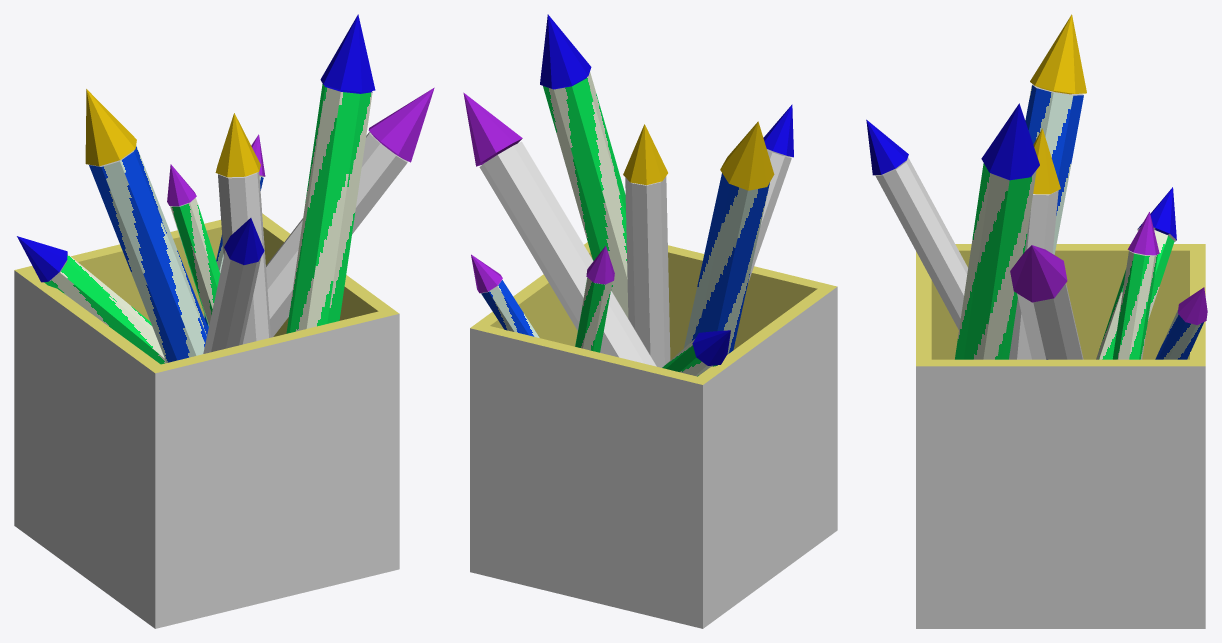
File: fireworks.fbx
The picture shows the model from 3 angles, left to right: view 1: azimuth 30°, elevation 25°; view 2: azimuth 150°, elevation 25°; view 3: azimuth 270°, elevation 25°; orthographic projection. The views are drawn at different scales.
Parts seen in each view (by area): view 1: Cube; view 2: Cube; view 3: Cube.
Boxes of the visible parts, left/top/right/bottom form: Cube: left=14, top=14, right=434, bottom=628; Cube: left=463, top=14, right=837, bottom=628; Cube: left=866, top=14, right=1207, bottom=628.
Size of the model in its own units: 286 by 404 by 236.
Materials: 10 (2 with a texture image).
